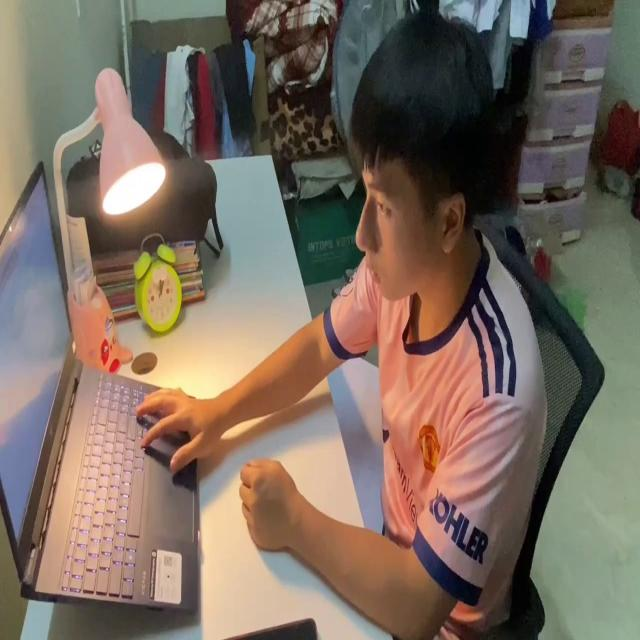book: (326, 349, 390, 540)
laptop: (0, 154, 203, 618)
phone: (213, 610, 320, 640)
student: (130, 0, 550, 640)
